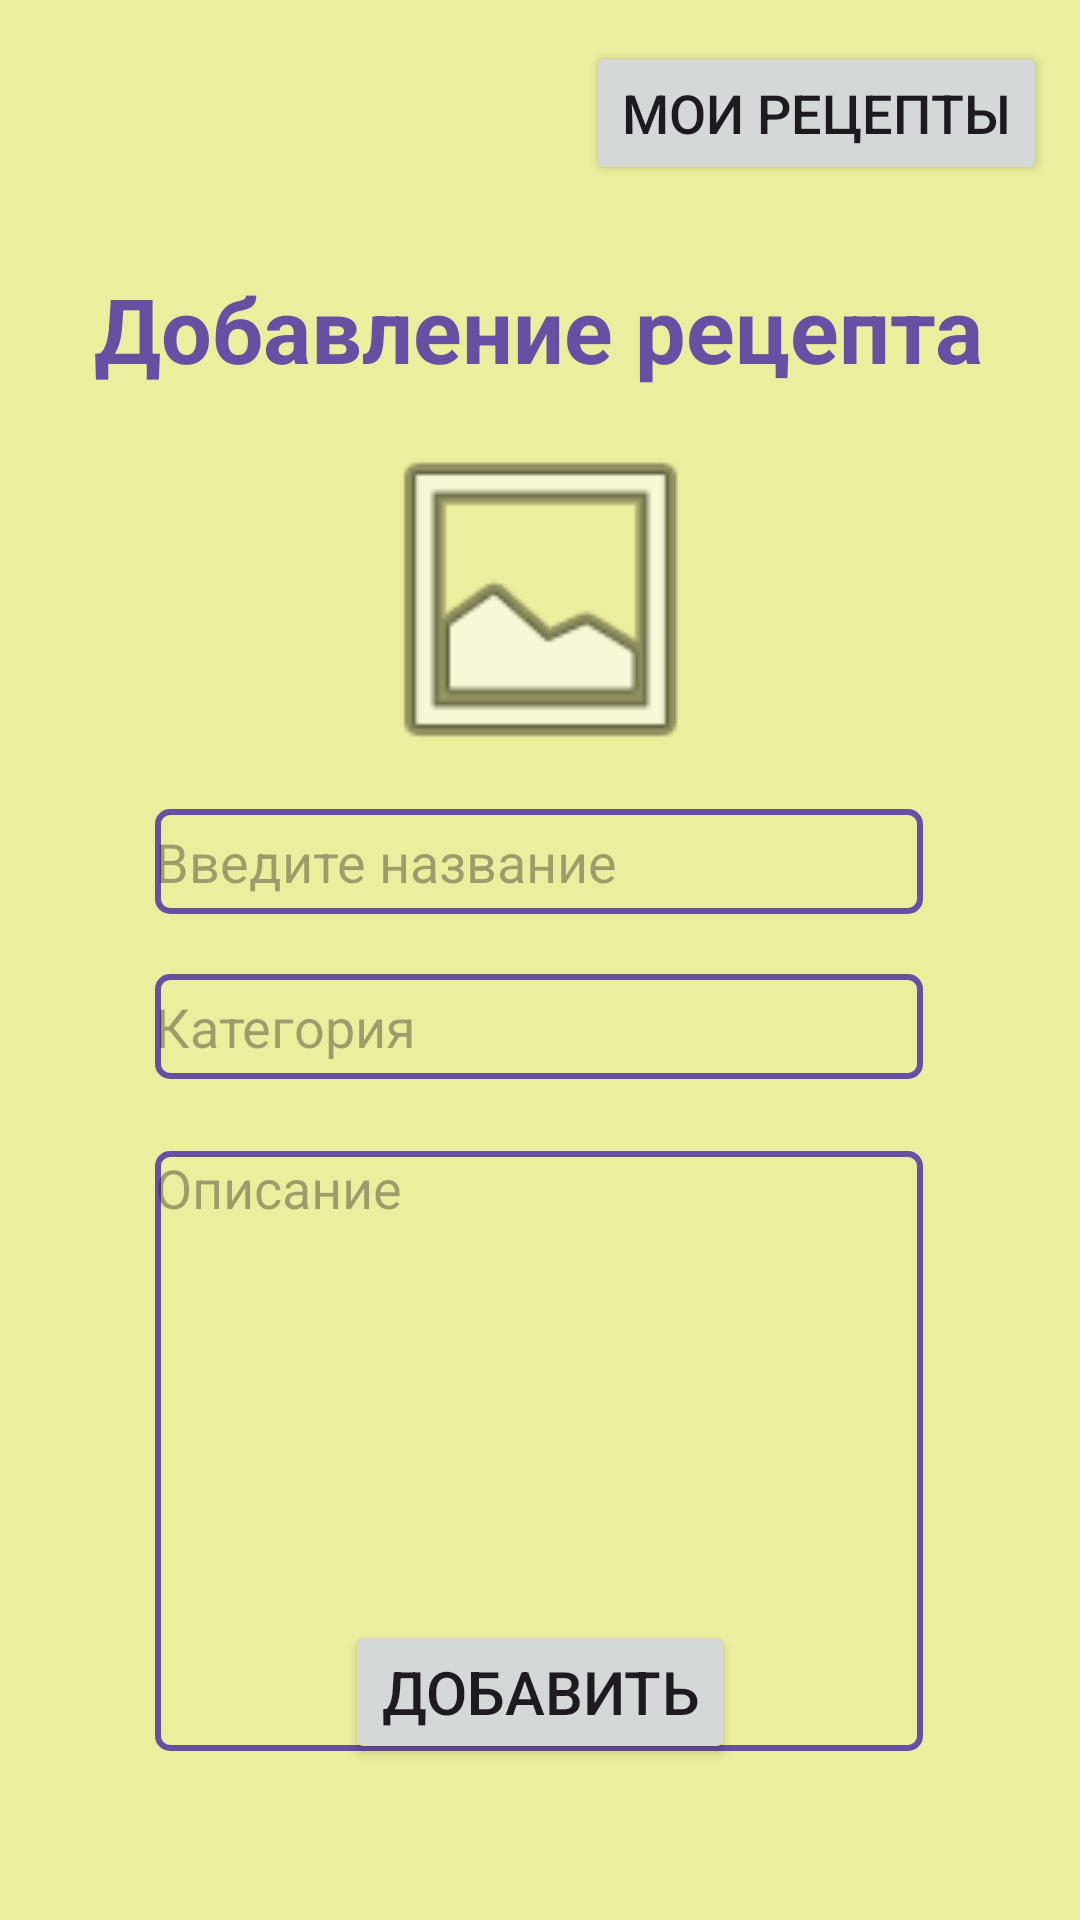

Where icons sit on this 1080 x 1920 app screen, as rect(x1, y1, x2, y2):
Добавить изображение: rect(404, 462, 677, 737)
